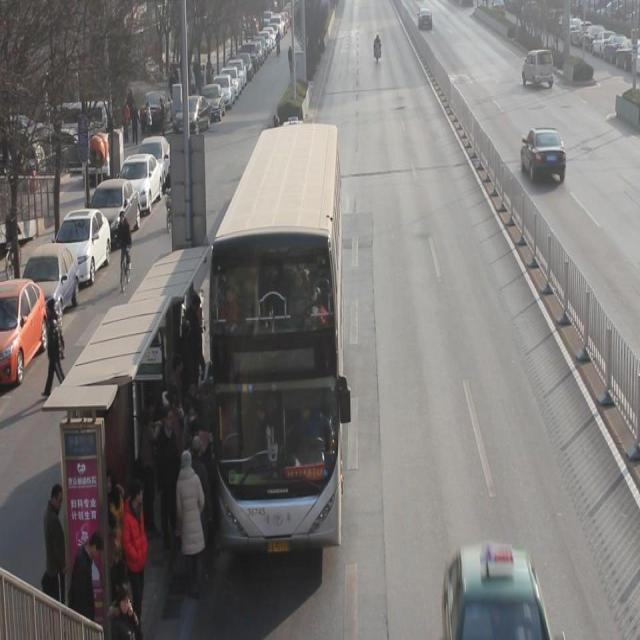car: (441, 544, 547, 634), (521, 130, 567, 188), (417, 10, 433, 33)
truck: (522, 51, 555, 91)
van: (206, 126, 341, 553)
